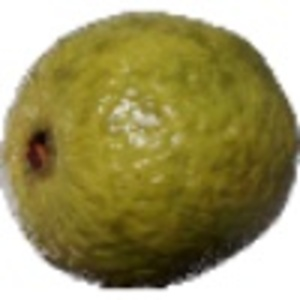goiaba: (3, 12, 297, 286)
